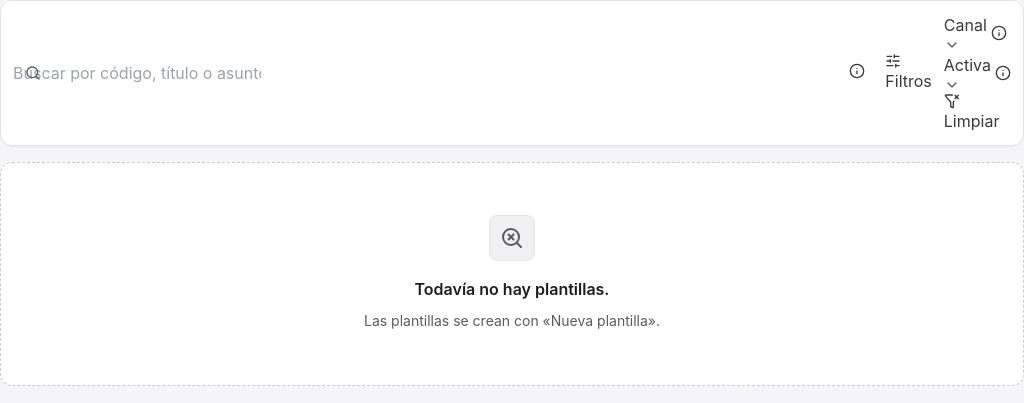
Scenario: Plantillas de notificación › sin coincidencias dice que nada coincide, no que no hay plantillas
The image size is (1024, 403).
Expected: the heading "Todavía no hay plantillas." is shown, [414,277,609,301]
Type "zzz" into the field labelled "Buscar por código, título o asunto…" at (137, 73), box [13,61,261,85]
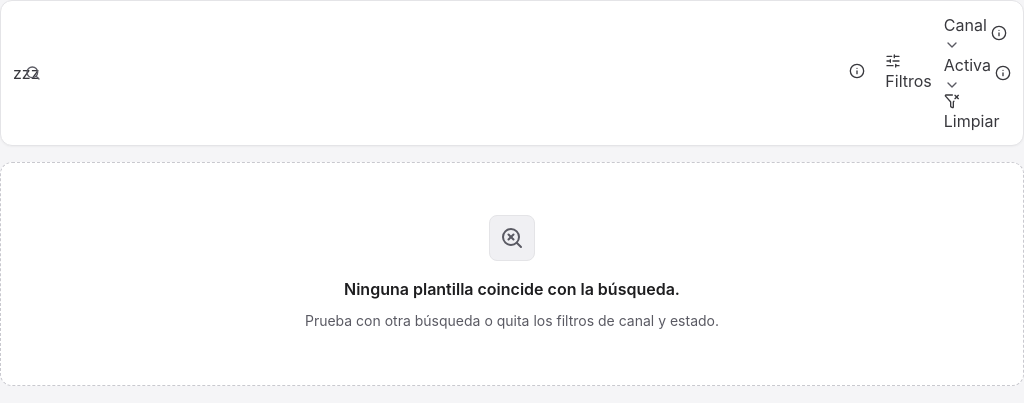
Expected: the heading "Ninguna plantilla coincide con la búsqueda." is shown, [344,277,680,301]
